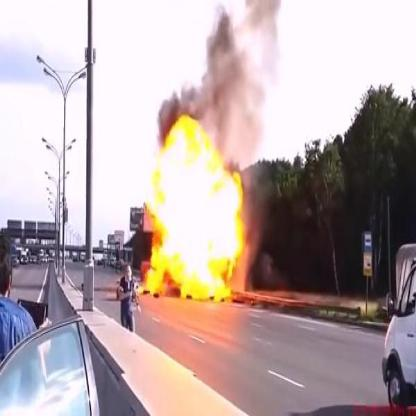fire: (144, 108, 246, 312)
